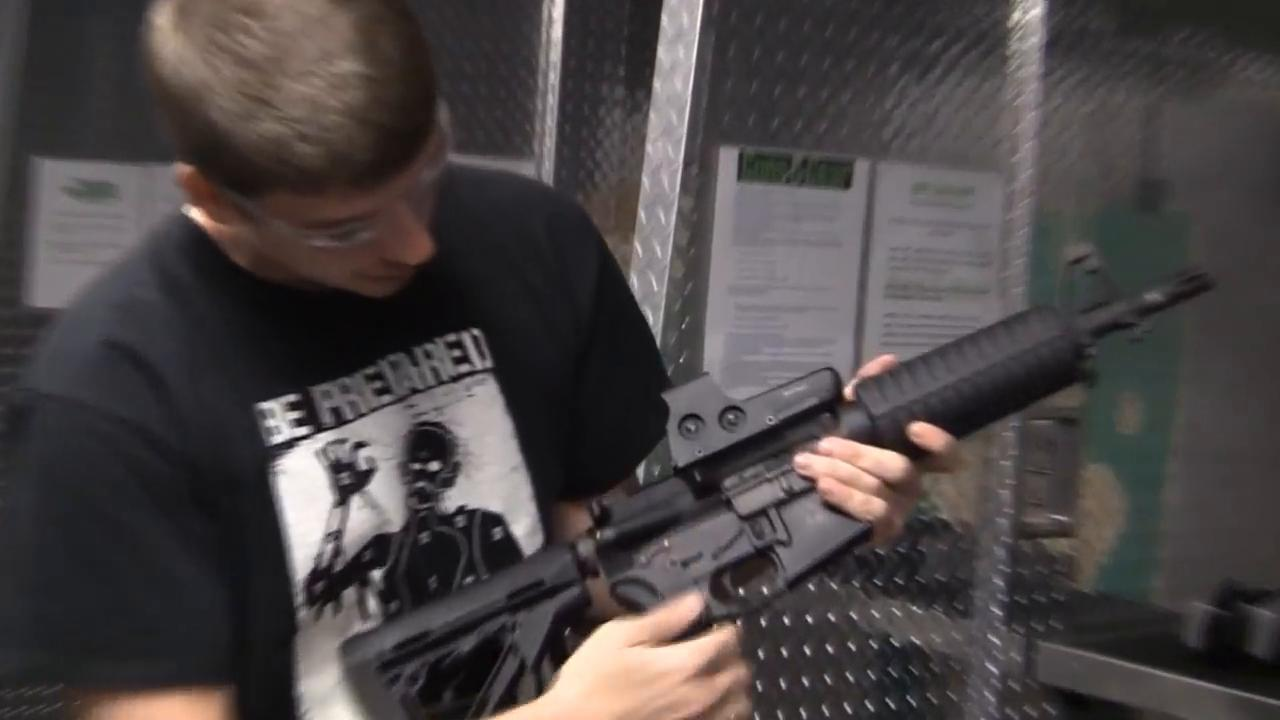M4 Rifle: (336, 238, 1212, 718)
